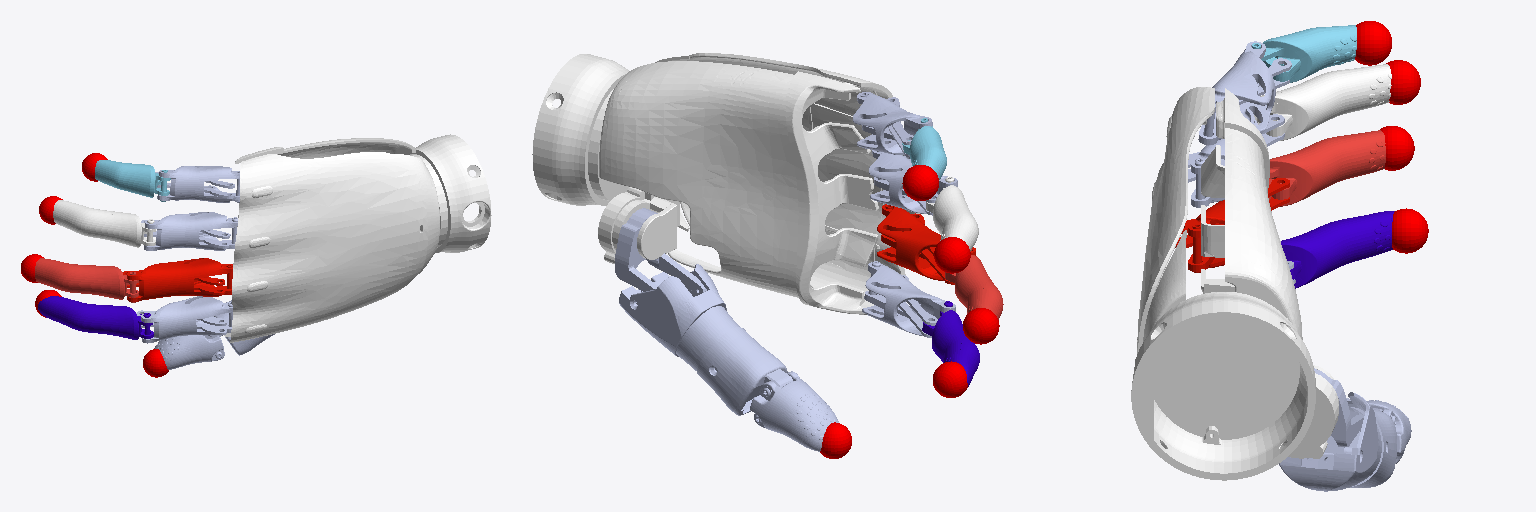
The robot description file, URDF, robot "urdf_v2":
<?xml version="1.0" encoding="utf-8"?>
<!-- This URDF was automatically created by SolidWorks to URDF Exporter! Originally created by [author] ([email redacted]) 
     Commit Version: 1.6.0-4-g7f85cfe  Build Version: 1.6.7995.38578
     For more information, please see http://wiki.ros.org/sw_urdf_exporter -->
<robot
  name="urdf_v2">
  <link
    name="base_link">
    <inertial>
      <origin
        xyz="0.0282680334155116 -0.00155312878370573 0.0090688183026775"
        rpy="0 0 0" />
      <mass
        value="0.0410424762542632" />
      <inertia
        ixx="1.67808110422422E-05"
        ixy="-1.38161155616436E-06"
        ixz="2.77639403016102E-07"
        iyy="1.59956087599769E-05"
        iyz="-2.84757118052629E-07"
        izz="2.62608804201258E-05" />
    </inertial>
    <visual>
      <origin
        xyz="0 0 0"
        rpy="0 0 0" />
      <geometry>
        <mesh
          filename="./base_link.STL" />
      </geometry>
      <material
        name="">
        <color
          rgba="1 1 1 1" />
      </material>
    </visual>
    <collision>
      <origin
        xyz="0 0 0"
        rpy="0 0 0" />
      <geometry>
        <mesh
          filename="./base_link.STL" />
      </geometry>
    </collision>
  </link>
  <link
    name="ff_proximal_link">
    <inertial>
      <origin
        xyz="-0.015386 -0.0066062 -0.0079647"
        rpy="0 0 0" />
      <mass
        value="0.0018523" />
      <inertia
        ixx="8.5863E-08"
        ixy="-4.71E-09"
        ixz="-4.397E-08"
        iyy="1.886E-07"
        iyz="-2.9657E-09"
        izz="1.808E-07" />
    </inertial>
    <visual>
      <origin
        xyz="0 0 0"
        rpy="0 0 0" />
      <geometry>
        <mesh
          filename="./ff_proximal_link.STL" />
      </geometry>
      <material
        name="">
        <color
          rgba="0.79216 0.81961 0.93333 1" />
      </material>
    </visual>
    <collision>
      <origin
        xyz="0 0 0"
        rpy="0 0 0" />
      <geometry>
        <mesh
          filename="./ff_proximal_link.STL" />
      </geometry>
    </collision>
  </link>
  <joint
    name="ff_proximal_joint"
    type="revolute">
    <origin
      xyz="-0.03826 -0.011678 -0.023531"
      rpy="1.5708 0 0" />
    <parent
      link="base_link" />
    <child
      link="ff_proximal_link" />
    <axis
      xyz="0 1 0" />
    <limit
      lower="-1.23"
      upper="0.34"
      effort="50"
      velocity="1" />
  </joint>
  <link
    name="ff_distal_link">
    <inertial>
      <origin
        xyz="-0.0136744559671081 -0.00546355961032156 -0.0194579532929323"
        rpy="0 0 0" />
      <mass
        value="0.00411870576106074" />
      <inertia
        ixx="3.84711901595296E-07"
        ixy="6.16480172234882E-09"
        ixz="-2.5005841513438E-07"
        iyy="5.74190965189268E-07"
        iyz="6.30974065938001E-09"
        izz="2.65068505295533E-07" />
    </inertial>
    <visual>
      <origin
        xyz="0 0 0"
        rpy="0 0 0" />
      <geometry>
        <mesh
          filename="./ff_distal_link.STL" />
      </geometry>
      <material
        name="">
        <color
          rgba="0.282352941176471 0.0313725490196078 0.815686274509804 1" />
      </material>
    </visual>
    <collision>
      <origin
        xyz="0 0 0"
        rpy="0 0 0" />
      <geometry>
        <mesh
          filename="./ff_distal_link.STL" />
      </geometry>
    </collision>
  </link>
  <joint
    name="ff_distal_joint"
    type="revolute">
    <origin
      xyz="-0.033944 -0.0018093 -0.011608"
      rpy="0 0 0" />
    <parent
      link="ff_proximal_link" />
    <child
      link="ff_distal_link" />
    <axis
      xyz="0 1 0" />
    <limit
      lower="-1.23"
      upper="0.34"
      effort="50"
      velocity="1" />
    <mimic 
      joint="ff_proximal_joint" 
      multiplier="1.0" 
      offset="-0." />
  </joint>
  <link
    name="lf_proximal_link">
    <inertial>
      <origin
        xyz="-0.0146092609512682 -0.0055508873917868 -0.00670762165904373"
        rpy="0 0 0" />
      <mass
        value="0.00164259183850072" />
      <inertia
        ixx="7.83650178895857E-08"
        ixy="4.1832976450397E-09"
        ixz="-3.3038131625674E-08"
        iyy="1.37775200510857E-07"
        iyz="3.38529940940638E-09"
        izz="1.31770538978944E-07" />
    </inertial>
    <visual>
      <origin
        xyz="0 0 0"
        rpy="0 0 0" />
      <geometry>
        <mesh
          filename="./lf_proximal_link.STL" />
      </geometry>
      <material
        name="">
        <color
          rgba="0.792156862745098 0.819607843137255 0.933333333333333 1" />
      </material>
    </visual>
    <collision>
      <origin
        xyz="0 0 0"
        rpy="0 0 0" />
      <geometry>
        <mesh
          filename="./lf_proximal_link.STL" />
      </geometry>
    </collision>
  </link>
  <joint
    name="lf_proximal_joint"
    type="revolute">
    <origin
      xyz="-0.033769 -0.011577 0.037146"
      rpy="1.5708 0 0" />
    <parent
      link="base_link" />
    <child
      link="lf_proximal_link" />
    <axis
      xyz="0 1 0" />
    <limit
      lower="-1.23"
      upper="0.34"
      effort="50"
      velocity="1" />
  </joint>
  <link
    name="lf_distal_link">
    <inertial>
      <origin
        xyz="-0.00921516331063749 -0.00657933694076938 -0.0137060475387422"
        rpy="0 0 0" />
      <mass
        value="0.00258549281540904" />
      <inertia
        ixx="1.24448167729541E-07"
        ixy="-7.90147373548682E-10"
        ixz="-5.47338391191158E-08"
        iyy="1.5333214661181E-07"
        iyz="4.20352585186048E-10"
        izz="7.16963433808903E-08" />
    </inertial>
    <visual>
      <origin
        xyz="0 0 0"
        rpy="0 0 0" />
      <geometry>
        <mesh
          filename="./lf_distal_link.STL" />
      </geometry>
      <material
        name="">
        <color
          rgba="0.576470588235294 0.850980392156863 0.945098039215686 1" />
      </material>
    </visual>
    <collision>
      <origin
        xyz="0 0 0"
        rpy="0 0 0" />
      <geometry>
        <mesh
          filename="./lf_distal_link.STL" />
      </geometry>
    </collision>
  </link>
  <joint
    name="lf_distal_joint"
    type="revolute">
    <origin
      xyz="-0.029536 0.0024174 -0.01189"
      rpy="0 0 0" />
    <parent
      link="lf_proximal_link" />
    <child
      link="lf_distal_link" />
    <axis
      xyz="0 1 0" />
    <limit
      lower="-1.23"
      upper="0.34"
      effort="50"
      velocity="1" />
    <mimic 
      joint="lf_proximal_joint" 
      multiplier="1.0" 
      offset="-0." />
  </joint>
  <link
    name="mf_proximal_link">
    <inertial>
      <origin
        xyz="-0.0177059315083575 -0.0068574882263558 -0.00949570438060691"
        rpy="0 0 0" />
      <mass
        value="0.00222072837890887" />
      <inertia
        ixx="1.18469806234159E-07"
        ixy="-2.169203589617E-09"
        ixz="-7.66611865960727E-08"
        iyy="2.82300078965434E-07"
        iyz="-1.01552906952095E-09"
        izz="2.55439925655879E-07" />
    </inertial>
    <visual>
      <origin
        xyz="0 0 0"
        rpy="0 0 0" />
      <geometry>
        <mesh
          filename="./mf_proximal_link.STL" />
      </geometry>
      <material
        name="">
        <color
          rgba="0.913725490196078 0.109803921568627 0.0313725490196078 1" />
      </material>
    </visual>
    <collision>
      <origin
        xyz="0 0 0"
        rpy="0 0 0" />
      <geometry>
        <mesh
          filename="./mf_proximal_link.STL" />
      </geometry>
    </collision>
  </link>
  <joint
    name="mf_proximal_joint"
    type="revolute">
    <origin
      xyz="-0.041118 -0.015454 -0.0028912"
      rpy="1.5708 0 0" />
    <parent
      link="base_link" />
    <child
      link="mf_proximal_link" />
    <axis
      xyz="0 1 0" />
    <limit
      lower="-1.23"
      upper="0.34"
      effort="50"
      velocity="1" />
  </joint>
  <link
    name="mf_distal_link">
    <inertial>
      <origin
        xyz="-0.0143449599107263 -0.0068015916660648 -0.0187410189605281"
        rpy="0 0 0" />
      <mass
        value="0.00411871594900483" />
      <inertia
        ixx="3.77681695290248E-07"
        ixy="-2.6050362803194E-09"
        ixz="-2.51747092435786E-07"
        iyy="5.74182941173459E-07"
        iyz="-3.33591966287697E-09"
        izz="2.72077516511856E-07" />
    </inertial>
    <visual>
      <origin
        xyz="0 0 0"
        rpy="0 0 0" />
      <geometry>
        <mesh
          filename="./mf_distal_link.STL" />
      </geometry>
      <material
        name="">
        <color
          rgba="0.917647058823529 0.305882352941176 0.274509803921569 1" />
      </material>
    </visual>
    <collision>
      <origin
        xyz="0 0 0"
        rpy="0 0 0" />
      <geometry>
        <mesh
          filename="./mf_distal_link.STL" />
      </geometry>
    </collision>
  </link>
  <joint
    name="mf_distal_joint"
    type="revolute">
    <origin
      xyz="-0.038289 -0.00050707 -0.014673"
      rpy="0 0 0" />
    <parent
      link="mf_proximal_link" />
    <child
      link="mf_distal_link" />
    <axis
      xyz="0 1 0" />
    <limit
      lower="-1.23"
      upper="0.34"
      effort="50"
      velocity="1" />
    <mimic 
      joint="mf_proximal_joint" 
      multiplier="1.0" 
      offset="-0." />
  </joint>
  <link
    name="rf_proximal_link">
    <inertial>
      <origin
        xyz="-0.0159574731093167 -0.00508699297495175 -0.00788653991870907"
        rpy="0 0 0" />
      <mass
        value="0.00185229291559554" />
      <inertia
        ixx="8.87960405276781E-08"
        ixy="5.65163102187985E-09"
        ixz="-4.67021204809698E-08"
        iyy="1.8840957230307E-07"
        iyz="2.64384772912068E-09"
        izz="1.78055276074851E-07" />
    </inertial>
    <visual>
      <origin
        xyz="0 0 0"
        rpy="0 0 0" />
      <geometry>
        <mesh
          filename="./rf_proximal_link.STL" />
      </geometry>
      <material
        name="">
        <color
          rgba="0.792156862745098 0.819607843137255 0.933333333333333 1" />
      </material>
    </visual>
    <collision>
      <origin
        xyz="0 0 0"
        rpy="0 0 0" />
      <geometry>
        <mesh
          filename="./rf_proximal_link.STL" />
      </geometry>
    </collision>
  </link>
  <joint
    name="rf_proximal_joint"
    type="revolute">
    <origin
      xyz="-0.037956 -0.014704 0.016541"
      rpy="1.5708 0 0" />
    <parent
      link="base_link" />
    <child
      link="rf_proximal_link" />
    <axis
      xyz="0 1 0" />
    <limit
      lower="-1.23"
      upper="0.34"
      effort="50"
      velocity="1" />
  </joint>
  <link
    name="rf_distal_link">
    <inertial>
      <origin
        xyz="-0.0132013672271961 -0.00525332333018323 -0.0198360245917965"
        rpy="0 0 0" />
      <mass
        value="0.00411813438505178" />
      <inertia
        ixx="4.17567964091139E-07"
        ixy="8.83792091169937E-09"
        ixz="-2.39623187984756E-07"
        iyy="5.73527691798747E-07"
        iyz="1.35350117823584E-08"
        izz="2.3247215276718E-07" />
    </inertial>
    <visual>
      <origin
        xyz="0 0 0"
        rpy="0 0 0" />
      <geometry>
        <mesh
          filename="./rf_distal_link.STL" />
      </geometry>
      <material
        name="">
        <color
          rgba="1 1 1 1" />
      </material>
    </visual>
    <collision>
      <origin
        xyz="0 0 0"
        rpy="0 0 0" />
      <geometry>
        <mesh
          filename="./rf_distal_link.STL" />
      </geometry>
    </collision>
  </link>
  <joint
    name="rf_distal_joint"
    type="revolute">
    <origin
      xyz="-0.03359 0.0018994 -0.012583"
      rpy="0 0 0" />
    <parent
      link="rf_proximal_link" />
    <child
      link="rf_distal_link" />
    <axis
      xyz="0 1 0" />
    <limit
      lower="-1.23"
      upper="0.34"
      effort="50"
      velocity="1" />
    <mimic 
      joint="rf_proximal_joint" 
      multiplier="1.0" 
      offset="-0." />
  </joint>
  <link
    name="th_link_1">
    <inertial>
      <origin
        xyz="0.00270659292318193 -0.00468066434180406 -0.00150236387262136"
        rpy="0 0 0" />
      <mass
        value="0.00211540567417261" />
      <inertia
        ixx="1.7524535629557E-07"
        ixy="-5.50208752881828E-08"
        ixz="-4.43809324813235E-09"
        iyy="1.42495552210395E-07"
        iyz="-2.42530529882035E-08"
        izz="1.70635228042348E-07" />
    </inertial>
    <visual>
      <origin
        xyz="0 0 0"
        rpy="0 0 0" />
      <geometry>
        <mesh
          filename="./th_link_1.STL" />
      </geometry>
      <material
        name="">
        <color
          rgba="0.792156862745098 0.819607843137255 0.933333333333333 1" />
      </material>
    </visual>
    <collision>
      <origin
        xyz="0 0 0"
        rpy="0 0 0" />
      <geometry>
        <mesh
          filename="./th_link_1.STL" />
      </geometry>
    </collision>
  </link>
  <joint
    name="th_joint_1"
    type="revolute">
    <origin
      xyz="0.028856 0.014535 -0.018759"
      rpy="1.5708 0 0" />
    <parent
      link="base_link" />
    <child
      link="th_link_1" />
    <axis
      xyz="1 0 0" />
    <limit
      lower="-0.34"
      upper="1.571"
      effort="50"
      velocity="1" />
  </joint>
  <link
    name="th_link_2">
    <inertial>
      <origin
        xyz="-0.00834633647940502 -0.00790061639194979 -0.0025612163065322"
        rpy="0 0 0" />
      <mass
        value="0.0066634254339578" />
      <inertia
        ixx="4.79987278390943E-07"
        ixy="2.81861563990933E-11"
        ixz="-4.91467867848404E-07"
        iyy="2.21316128962266E-06"
        iyz="-8.06170404221075E-11"
        izz="1.8860706671632E-06" />
    </inertial>
    <visual>
      <origin
        xyz="0 0 0"
        rpy="0 0 0" />
      <geometry>
        <mesh
          filename="./th_link_2.STL" />
      </geometry>
      <material
        name="">
        <color
          rgba="0.792156862745098 0.819607843137255 0.933333333333333 1" />
      </material>
    </visual>
    <collision>
      <origin
        xyz="0 0 0"
        rpy="0 0 0" />
      <geometry>
        <mesh
          filename="./th_link_2.STL" />
      </geometry>
    </collision>
  </link>
  <joint
    name="th_joint_2"
    type="revolute">
    <origin
      xyz="-0.013434 -0.026438 -0.014086"
      rpy="-1.5678 -0.21839 -0.00065226" />
    <parent
      link="th_link_1" />
    <child
      link="th_link_2" />
    <axis
      xyz="0 1 0" />
    <limit
      lower="0.0"
      upper="0.34"
      effort="50"
      velocity="1" />
  </joint>
  <link
    name="th_link_3">
    <inertial>
      <origin
        xyz="-0.0213045047900868 -0.00350583745128136 0.000499870962888962"
        rpy="0 0 0" />
      <mass
        value="0.00503417004238488" />
      <inertia
        ixx="1.99445023591198E-07"
        ixy="1.59270498707835E-12"
        ixz="-5.81633739950867E-08"
        iyy="2.35221266539737E-07"
        iyz="-1.81601613420279E-12"
        izz="2.67880566003001E-07" />
    </inertial>
    <visual>
      <origin
        xyz="0 0 0"
        rpy="0 0 0" />
      <geometry>
        <mesh
          filename="./th_link_3.STL" />
      </geometry>
      <material
        name="">
        <color
          rgba="0.792156862745098 0.819607843137255 0.933333333333333 1" />
      </material>
    </visual>
    <collision>
      <origin
        xyz="0 0 0"
        rpy="0 0 0" />
      <geometry>
        <mesh
          filename="./th_link_3.STL" />
      </geometry>
    </collision>
  </link>
  <joint
    name="th_joint_3"
    type="revolute">
    <origin
      xyz="-0.028136 -0.0044434 -0.01595"
      rpy="0 0 0" />
    <parent
      link="th_link_2" />
    <child
      link="th_link_3" />
    <axis
      xyz="0 1 0" />
    <limit
      lower="0.0"
      upper="0.34"
      effort="50"
      velocity="1" />
    <mimic 
      joint="th_joint_2" 
      multiplier="1.0" 
      offset="-0." />
  </joint>

  <!-- add finger tips for convenience -->
  <link name='thumb_tip'>
    <visual>
        <geometry>
          <sphere radius="0.006" />
        </geometry>
        <material name="red">
          <color rgba="1 0 0 0.5" />
        </material>
      </visual>
  </link>
  <joint name="thumb_tip_joint" type="fixed">
    <origin xyz="-0.035 -0.005 -0.005" rpy="0 0 0"/>
    <parent link="th_link_3"/>
    <child link="thumb_tip"/>
  </joint>
  <link name='index_tip'>
    <visual>
        <geometry>
          <sphere radius="0.006" />
        </geometry>
        <material name="red">
          <color rgba="1 0 0 0.5" />
        </material>
      </visual>
  </link>
  <joint name="index_tip_joint" type="fixed">
    <origin xyz="-0.024 -0.005 -0.04" rpy="0 0 0"/>
    <parent link="ff_distal_link"/>
    <child link="index_tip"/>
  </joint>
  <link name='middle_tip'>
    <visual>
        <geometry>
          <sphere radius="0.006" />
        </geometry>
        <material name="red">
          <color rgba="1 0 0 0.5" />
        </material>
      </visual>
  </link>
  <joint name="middle_tip_joint" type="fixed">
    <origin xyz="-0.026 -0.007 -0.037" rpy="0 0 0"/>
    <parent link="mf_distal_link"/>
    <child link="middle_tip"/>
  </joint>
  <link name='ring_tip'>
    <visual>
        <geometry>
          <sphere radius="0.006" />
        </geometry>
        <material name="red">
          <color rgba="1 0 0 0.5" />
        </material>
      </visual>
  </link>
  <joint name="ring_tip_joint" type="fixed">
    <origin xyz="-0.024 -0.005 -0.04" rpy="0 0 0"/>
    <parent link="rf_distal_link"/>
    <child link="ring_tip"/>
  </joint>
  <link name='pinky_tip'>
    <visual>
        <geometry>
          <sphere radius="0.006" />
        </geometry>
        <material name="red">
          <color rgba="1 0 0 0.5" />
        </material>
      </visual>
  </link>
  <joint name="pinky_tip_joint" type="fixed">
    <origin xyz="-0.016 -0.007 -0.030" rpy="0 0 0"/>
    <parent link="lf_distal_link"/>
    <child link="pinky_tip"/>
  </joint>

</robot>

--- Render facts (derived) ---
Views: 3 orthographic renders of the robot side by side, from view 1: azimuth 30°, elevation 25°; view 2: azimuth 150°, elevation 25°; view 3: azimuth 270°, elevation 25°.
Model urdf_v2 with 17 links and 16 joints (11 revolute, 5 fixed), rooted at base_link, posed every joint at zero.
Visible links, largest first — view 1: base_link, mf_proximal_link, ff_distal_link, ff_proximal_link, rf_proximal_link, rf_distal_link, mf_distal_link, lf_proximal_link, lf_distal_link, th_link_3, thumb_tip; view 2: base_link, th_link_2, th_link_3, ff_proximal_link, mf_proximal_link, lf_proximal_link, th_link_1, rf_proximal_link, ff_distal_link, rf_distal_link, mf_distal_link, lf_distal_link (+5 smaller); view 3: base_link, th_link_2, rf_distal_link, mf_distal_link, ff_distal_link, lf_proximal_link, lf_distal_link, mf_proximal_link, rf_proximal_link, index_tip, pinky_tip, th_link_1 (+3 smaller).
Boxes of the visible links, <box> form: base_link: <box>224,134,491,342</box>; mf_proximal_link: <box>123,258,232,301</box>; ff_distal_link: <box>38,296,153,339</box>; ff_proximal_link: <box>136,296,232,343</box>; rf_proximal_link: <box>141,212,237,250</box>; rf_distal_link: <box>53,200,155,247</box>; mf_distal_link: <box>35,258,138,302</box>; lf_proximal_link: <box>155,166,239,202</box>; lf_distal_link: <box>95,160,170,201</box>; th_link_3: <box>154,335,224,369</box>; thumb_tip: <box>143,349,168,377</box>; base_link: <box>532,53,919,314</box>; th_link_2: <box>619,264,792,415</box>; th_link_3: <box>750,371,838,451</box>; ff_proximal_link: <box>862,261,955,337</box>; mf_proximal_link: <box>877,204,975,284</box>; lf_proximal_link: <box>853,92,932,156</box>; th_link_1: <box>615,208,706,294</box>; rf_proximal_link: <box>869,150,957,215</box>; ff_distal_link: <box>922,301,979,386</box>; rf_distal_link: <box>926,177,978,250</box>; mf_distal_link: <box>945,249,1003,319</box>; lf_distal_link: <box>902,118,946,179</box>; base_link: <box>1131,87,1338,480</box>; th_link_2: <box>1279,392,1396,491</box>; rf_distal_link: <box>1254,64,1391,140</box>; mf_distal_link: <box>1269,130,1385,206</box>; ff_distal_link: <box>1281,211,1394,288</box>; lf_proximal_link: <box>1198,41,1291,145</box>; lf_distal_link: <box>1252,25,1356,82</box>; mf_proximal_link: <box>1175,178,1289,272</box>; rf_proximal_link: <box>1188,114,1284,207</box>; index_tip: <box>1392,208,1428,253</box>; pinky_tip: <box>1355,21,1391,65</box>; th_link_1: <box>1314,368,1364,447</box>.
Bounding box of the posed robot: 0.1867 × 0.0789 × 0.1135 m (x, y, z).
Meshes: 12 distinct files referenced, 12 mesh visuals loaded (12 binary STL).